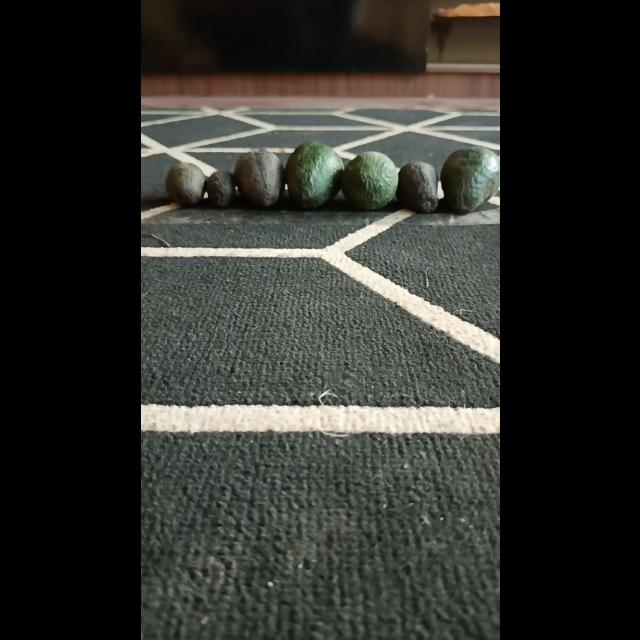Primera: (438, 148, 498, 215), (284, 142, 342, 208), (339, 150, 398, 210), (232, 150, 282, 208)
Segunda: (395, 160, 437, 213), (164, 161, 206, 207)
Tercera: (204, 170, 234, 208)
